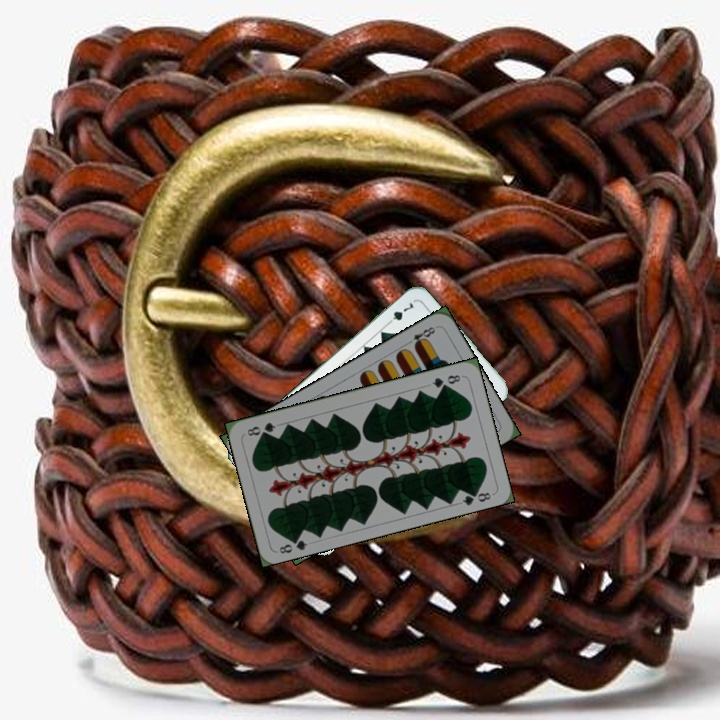E8: (402, 322, 438, 350)
G7: (382, 298, 416, 328)
G8: (275, 532, 310, 556), (428, 371, 463, 390)
